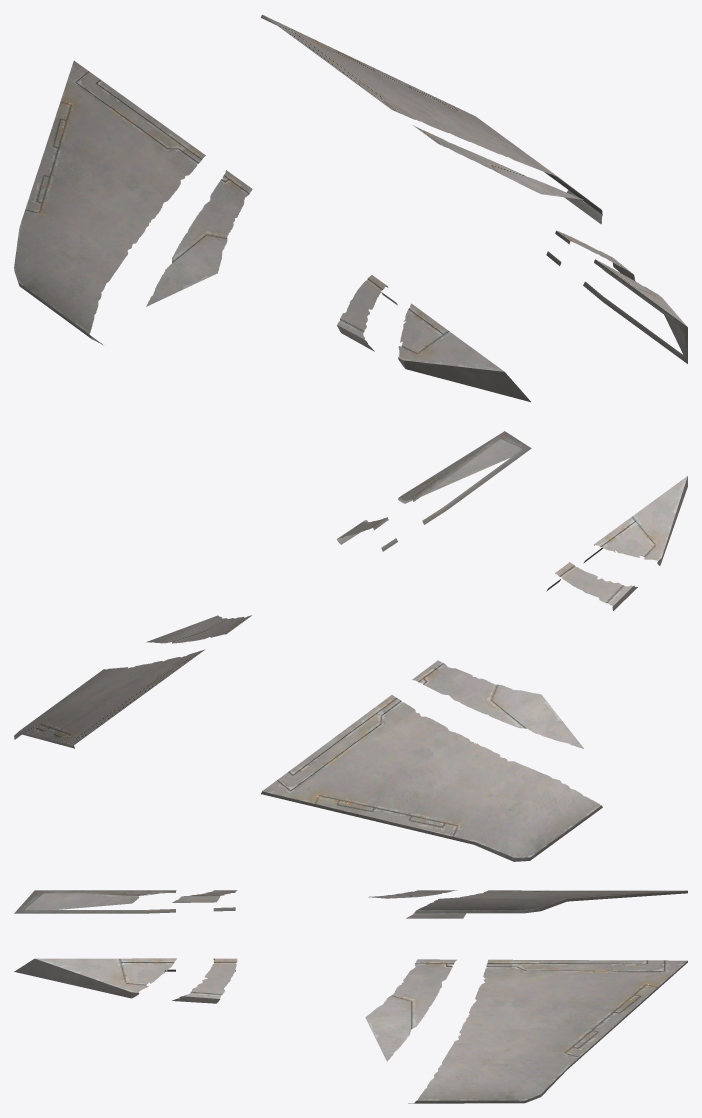
File: hutt_fighter_medium_struct_s02_l0.fbx
3 views of the same model, one above another, from view 1: azimuth 30°, elevation 25°; view 2: azimuth 150°, elevation 25°; view 3: azimuth 270°, elevation 25° (orthographic). The views are drawn at different scales.
Parts seen in each view (by area): view 1: mesh_node; view 2: mesh_node; view 3: mesh_node.
Boxes of the visible parts, x1=… form: mesh_node: x1=14, y1=14, x2=687, y2=402; mesh_node: x1=14, y1=431, x2=687, y2=861; mesh_node: x1=14, y1=890, x2=687, y2=1103.
Bounding box in the file's own units: 13.89 × 2.95 × 20.77.
